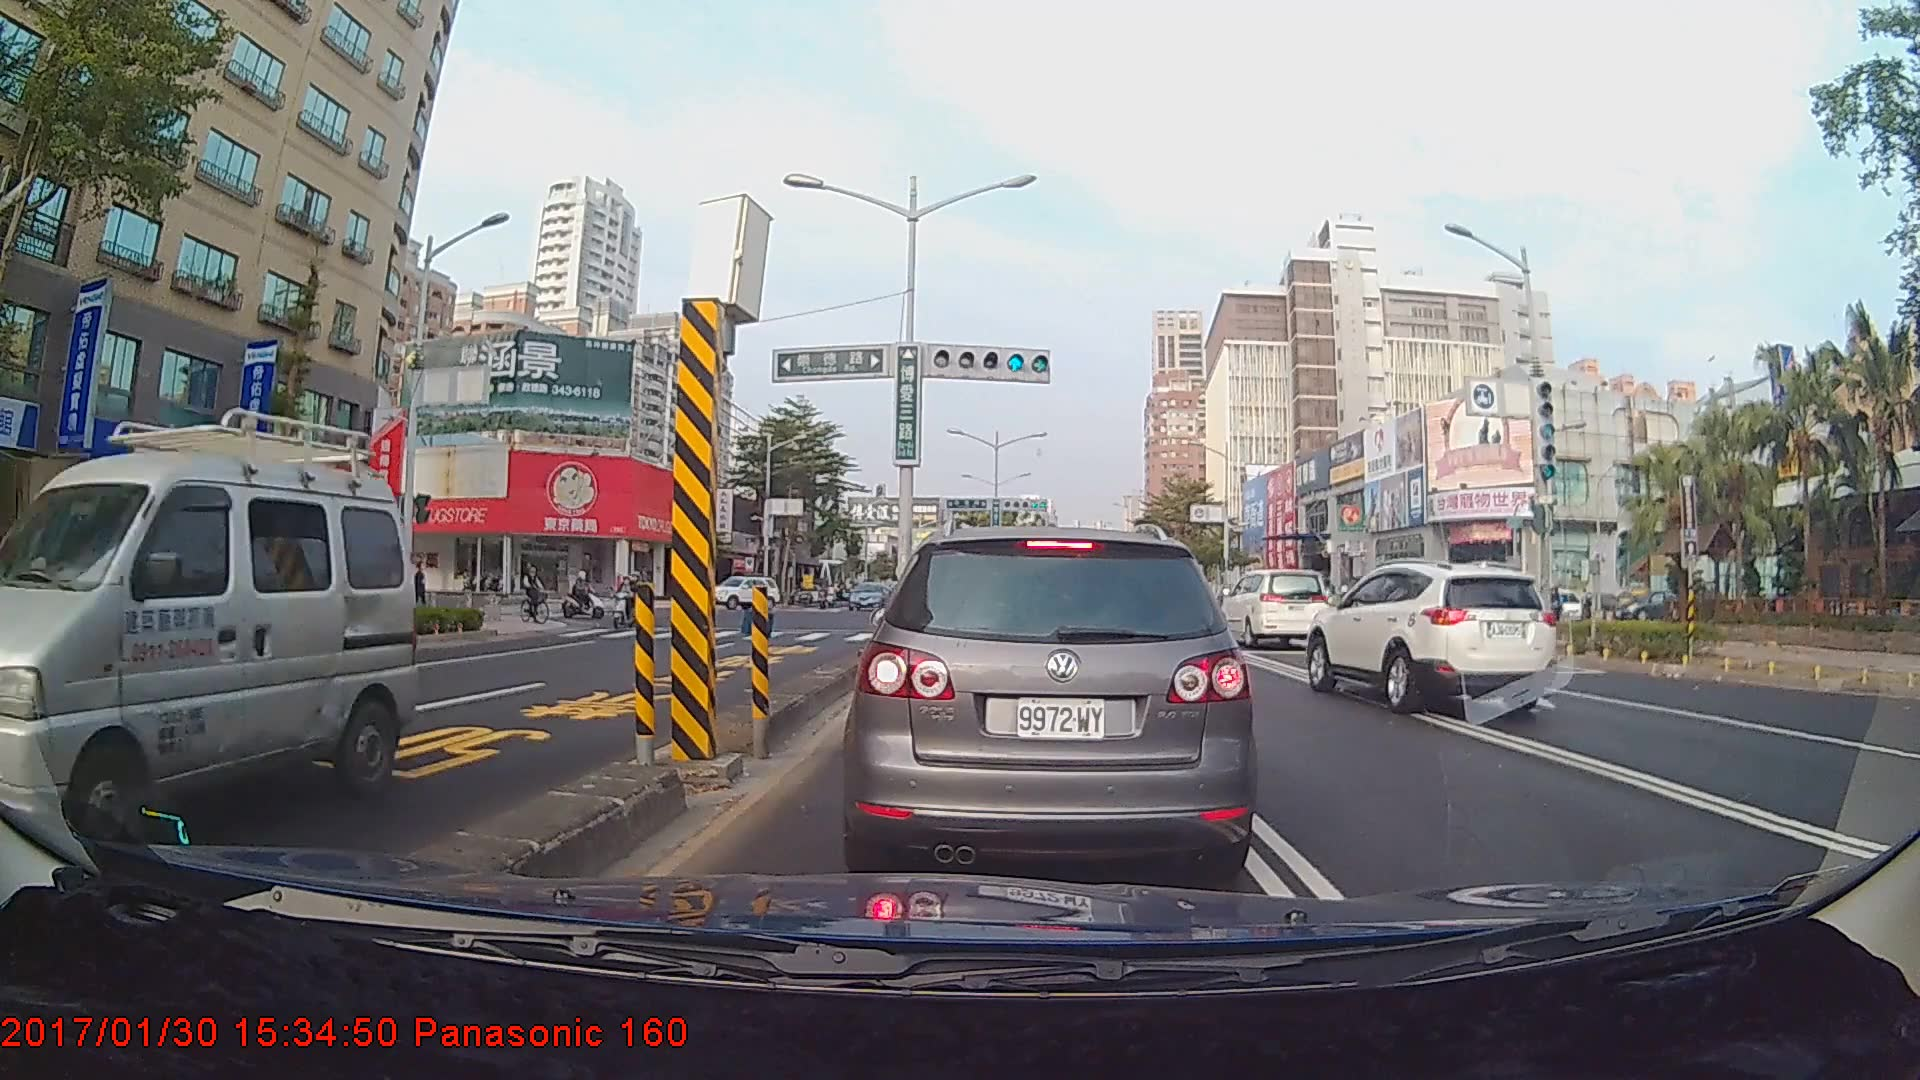rider: (562, 568, 614, 625), (518, 559, 553, 629)
vehicle: (0, 410, 417, 847), (854, 521, 1250, 882), (1304, 560, 1558, 712), (1213, 566, 1331, 649), (849, 581, 889, 612)
